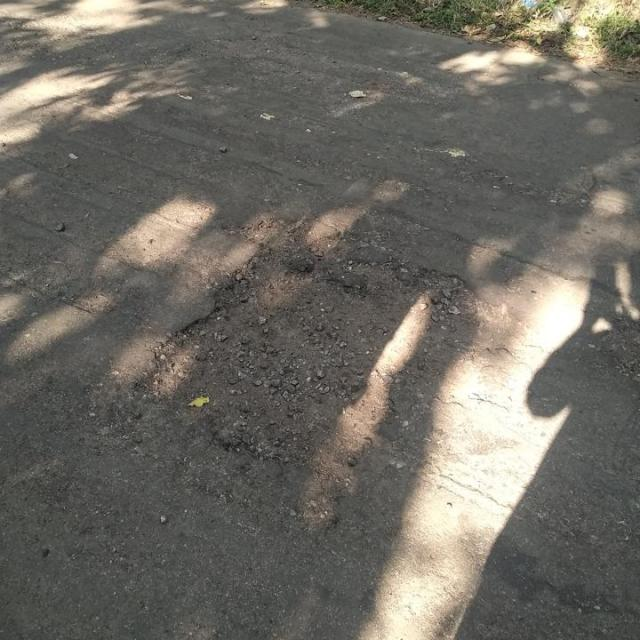pothole: (129, 242, 483, 478)
